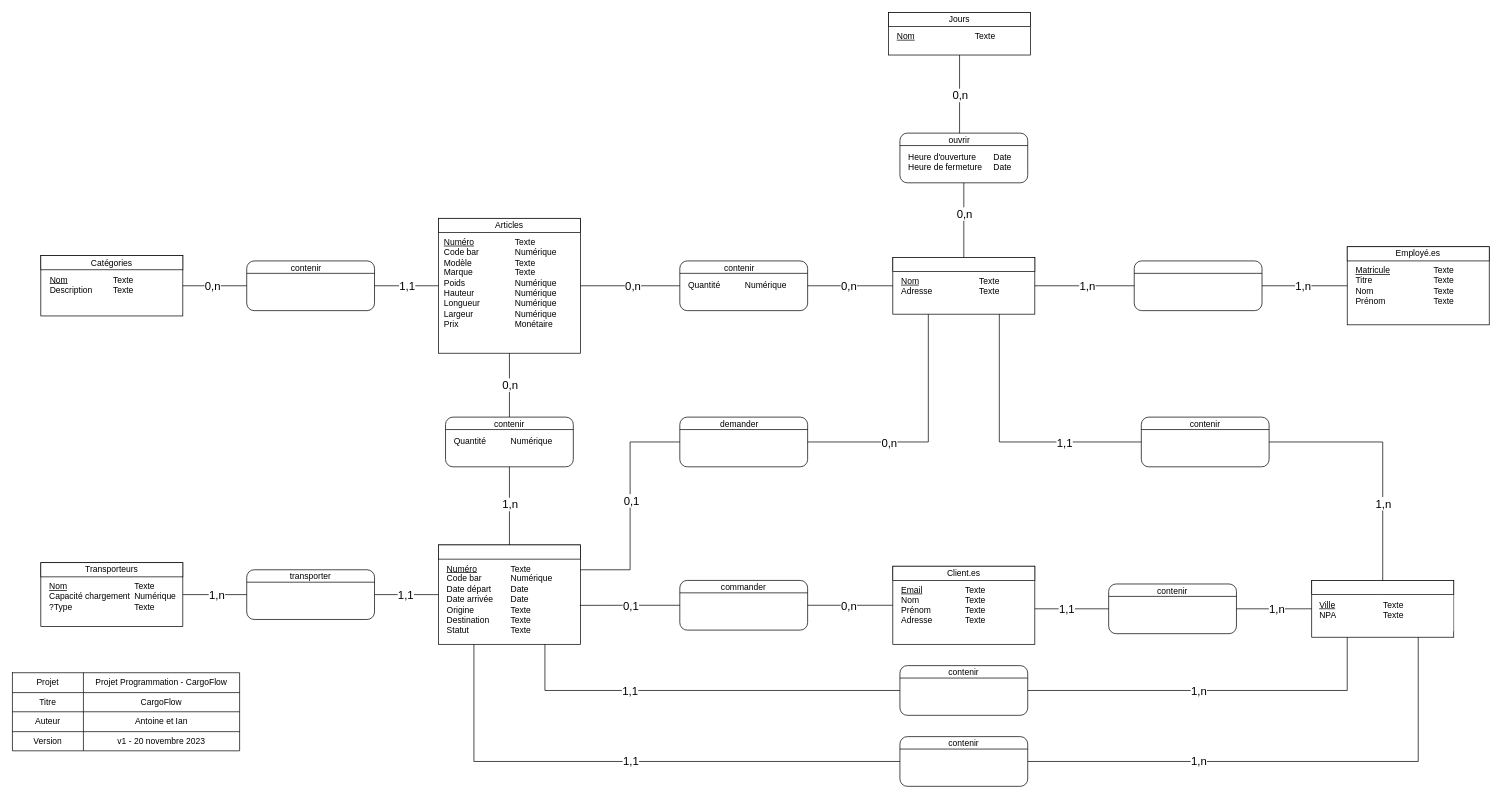
This 1502x799 diagram has some shape labels left out. Each missing label, with the centre of its shape:
"Commune" goes at point (1382, 587).
"Entrepôts" goes at point (963, 264).
"Livraisons" goes at point (509, 551).
"travailler" goes at point (1198, 285).
